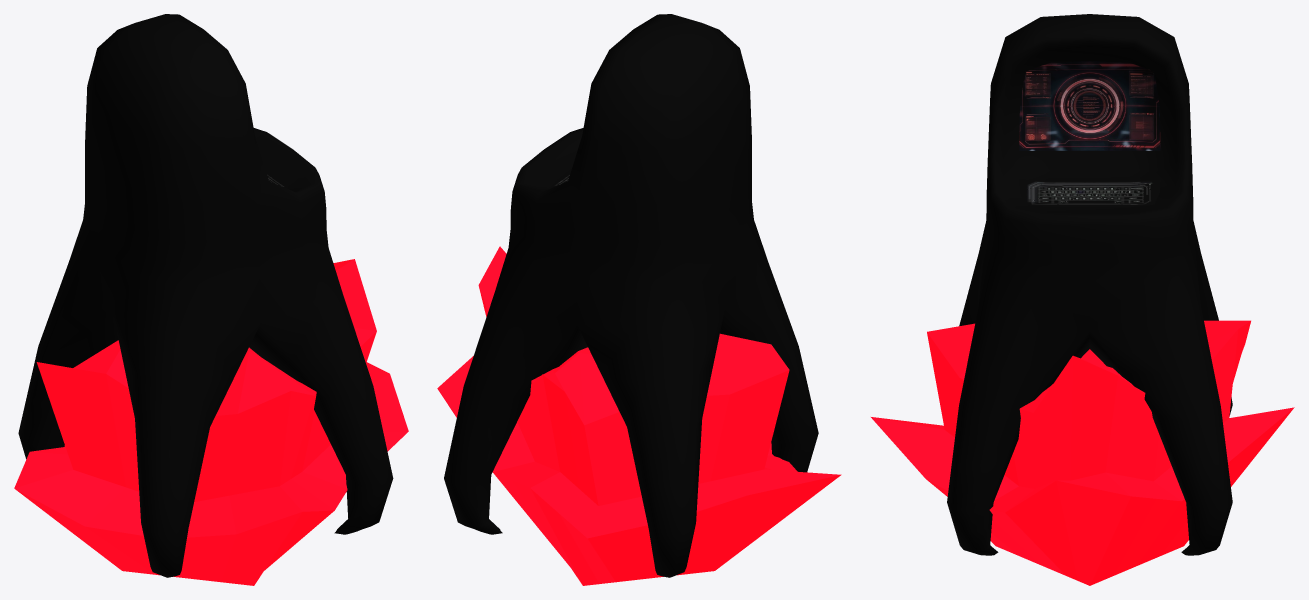
Rendered from Terminal.fbx.
3 renders of one model, left to right at view 1: azimuth 30°, elevation 25°; view 2: azimuth 150°, elevation 25°; view 3: azimuth 270°, elevation 25°, orthographic. The views are drawn at different scales.
Parts seen in each view (by area): view 1: Cube.002; view 2: Cube.002; view 3: Cube.002.
Part boxes in pixels (x1,y1,x2,y2): Cube.002: (14, 14, 408, 585); Cube.002: (437, 14, 841, 585); Cube.002: (871, 14, 1294, 585).
Size of the model in its own units: 407 by 546 by 410.
Materials: 4 (2 with a texture image).
